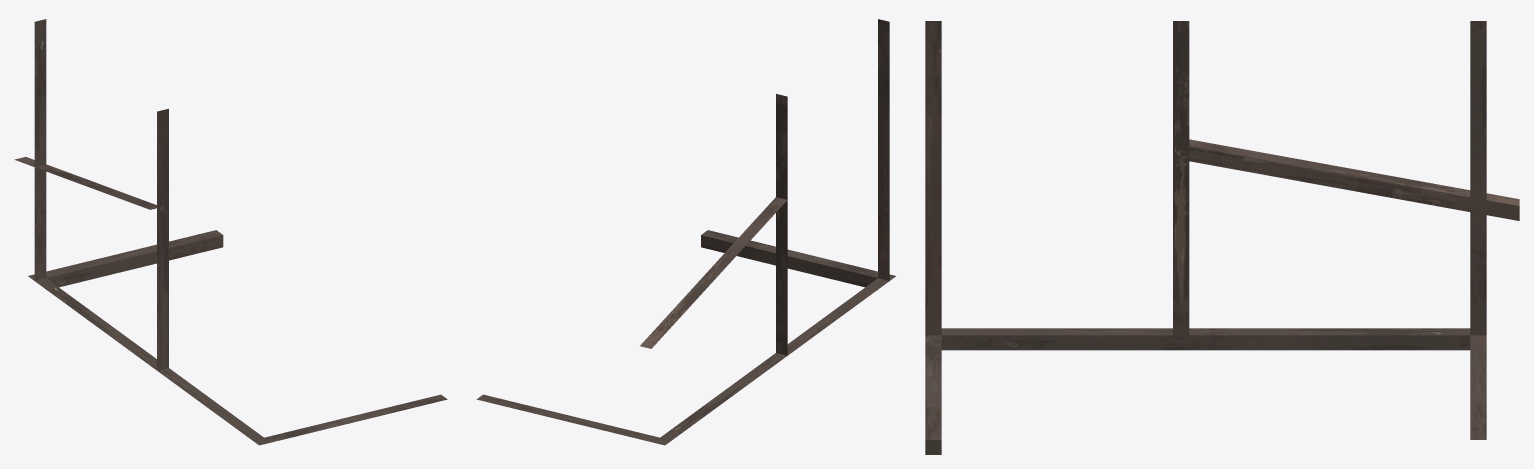
3 renders of one model, left to right at view 1: azimuth 30°, elevation 25°; view 2: azimuth 150°, elevation 25°; view 3: azimuth 270°, elevation 25°, orthographic. The views are drawn at different scales.
Visible parts, largest first — view 1: body0_model0_lod0_mesh0; view 2: body0_model0_lod0_mesh0; view 3: body0_model0_lod0_mesh0.
Part boxes in pixels (box(x1,y1,x2,y2)): body0_model0_lod0_mesh0: box(14, 19, 447, 445); body0_model0_lod0_mesh0: box(476, 19, 895, 445); body0_model0_lod0_mesh0: box(925, 21, 1519, 454).
Bounding box in the file's own units: 128 × 176 × 288.
1 material, 1 textured.
